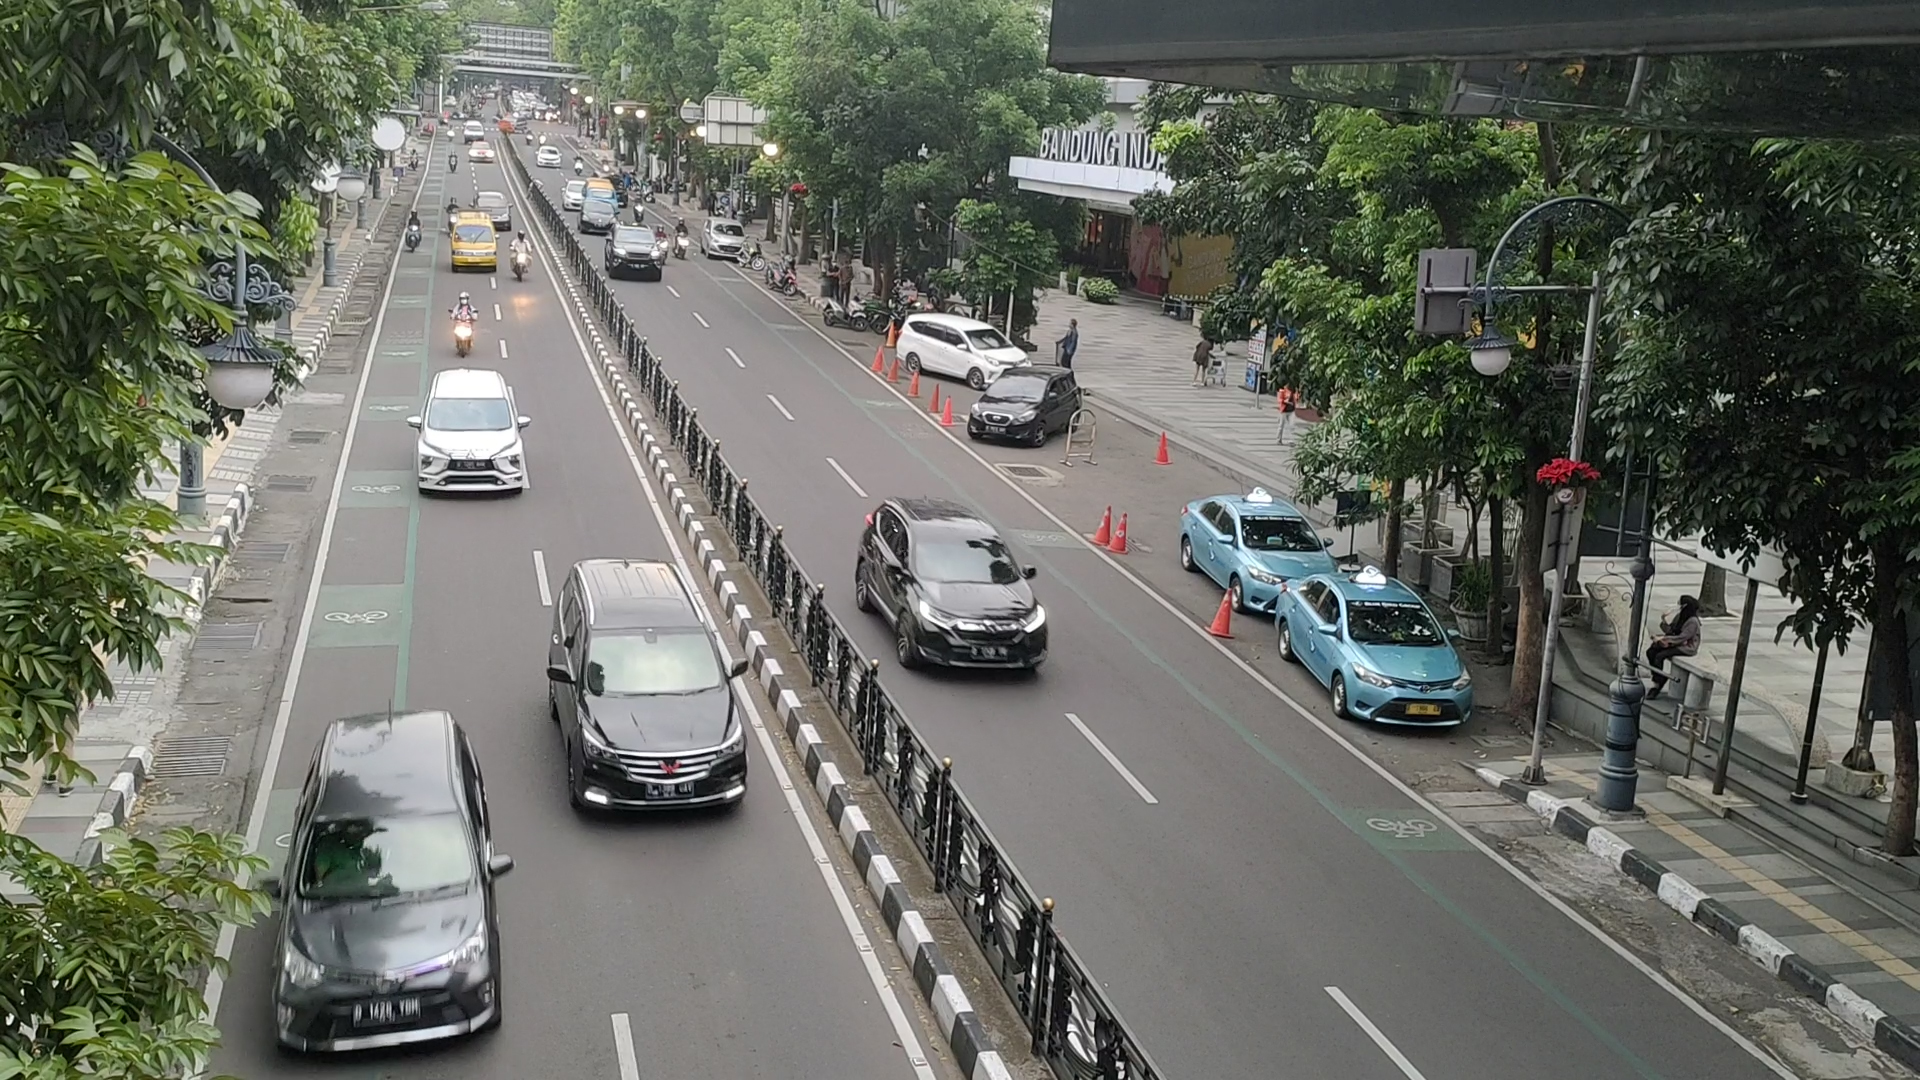mobil: (264, 810, 520, 1060), (556, 620, 750, 814), (902, 517, 1051, 687), (1331, 588, 1480, 737), (411, 394, 530, 501), (965, 369, 1062, 447), (953, 318, 1033, 392)
motor: (446, 291, 483, 357)
